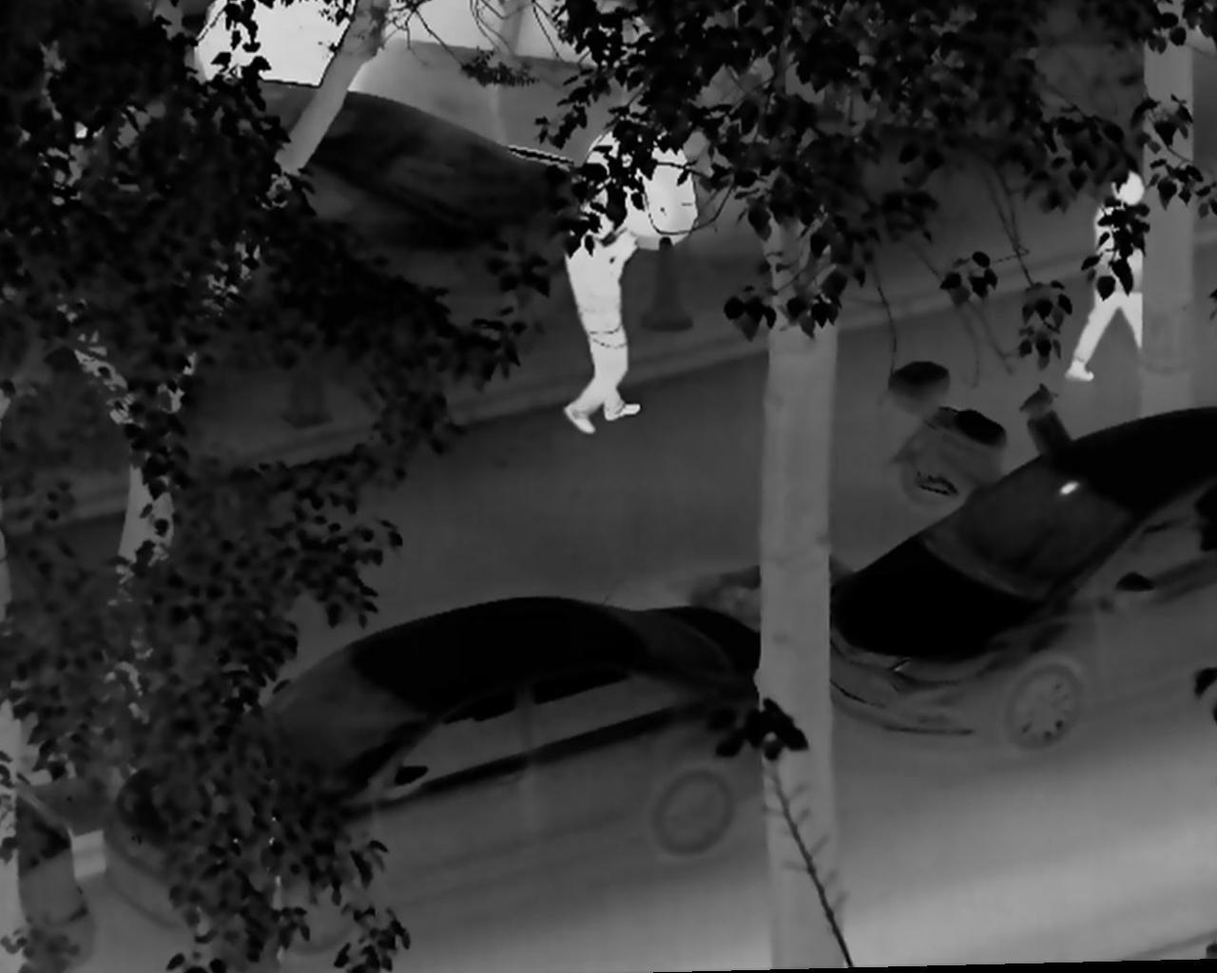person: (551, 200, 647, 438), (1065, 161, 1149, 388)
